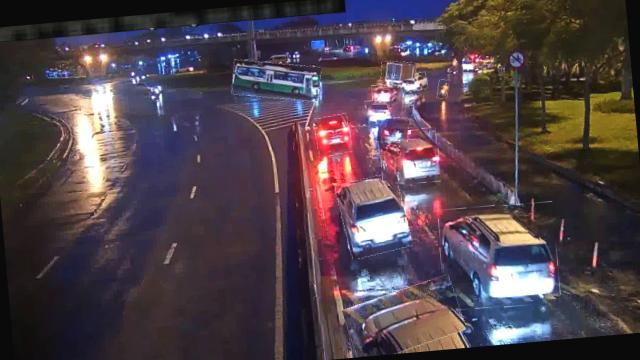Bike: (436, 78, 450, 100)
Bus: (231, 56, 323, 105)
Car: (437, 200, 562, 312), (343, 279, 466, 357), (336, 172, 411, 258), (379, 128, 442, 187), (314, 113, 352, 156), (375, 115, 409, 144), (365, 100, 396, 123), (399, 72, 428, 92), (371, 83, 398, 101)
Truck: (379, 60, 416, 88)
